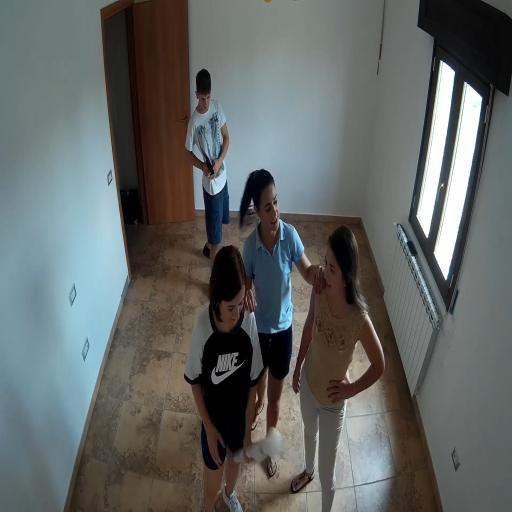nao-violencia: (180, 160, 391, 512)
violencia: (179, 59, 238, 263)
